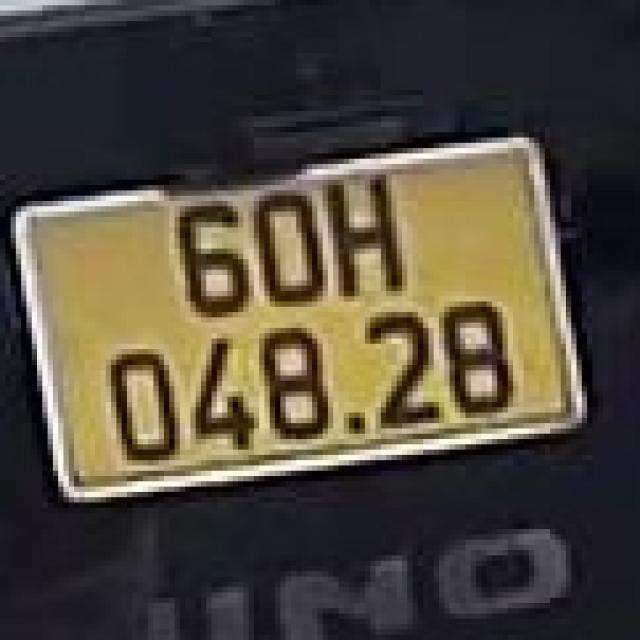0: (252, 191, 329, 310), (107, 345, 183, 465)
2: (368, 311, 440, 432)
4: (190, 333, 258, 458)
6: (177, 202, 254, 318)
8: (440, 302, 520, 422), (258, 323, 333, 447)
H: (324, 176, 406, 299)
